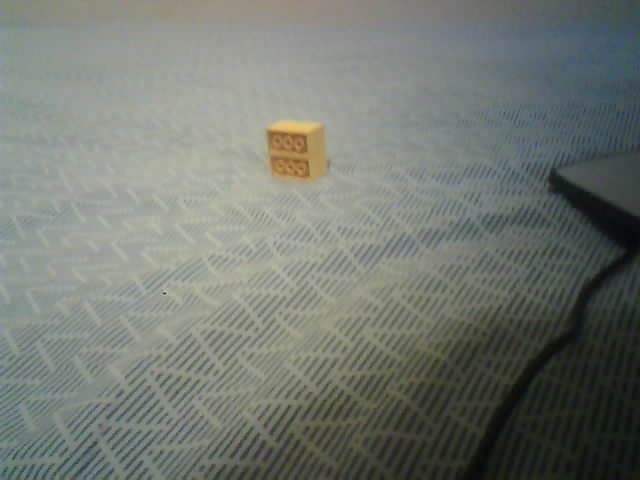lego: (263, 119, 328, 184)
